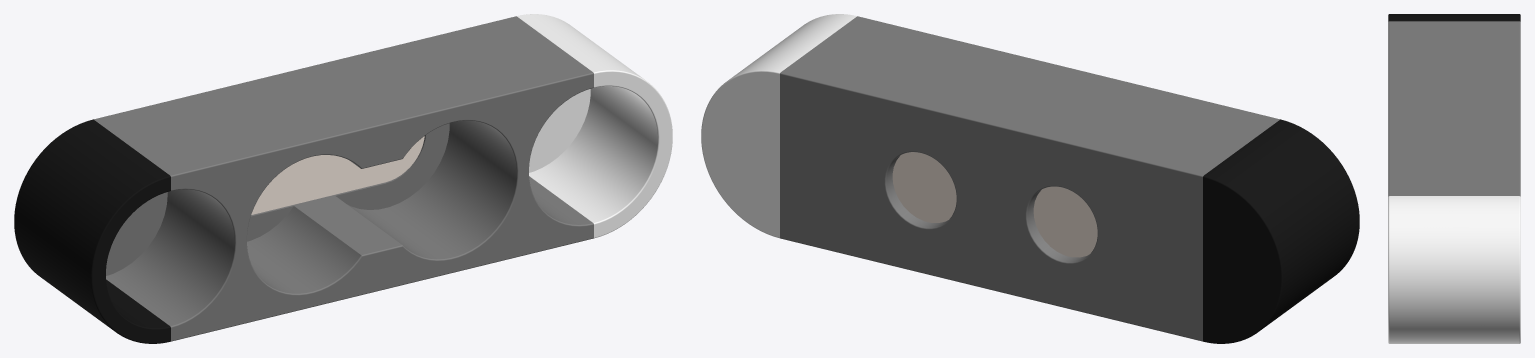
The model's file is bottom_shell.glb.
3 views of the same model, side by side, from view 1: azimuth 30°, elevation 25°; view 2: azimuth 150°, elevation 25°; view 3: azimuth 270°, elevation 25° (orthographic). The views are drawn at different scales.
Visible parts, largest first — view 1: module_bottom_cut_symbols; view 2: module_bottom_cut_symbols; view 3: module_bottom_cut_symbols.
Part boxes in pixels (left/top/right/bottom): module_bottom_cut_symbols: left=14, top=14, right=672, bottom=343; module_bottom_cut_symbols: left=701, top=14, right=1359, bottom=343; module_bottom_cut_symbols: left=1388, top=14, right=1520, bottom=343.
Size of the model in its own units: 0.099 by 0.027 by 0.023.
